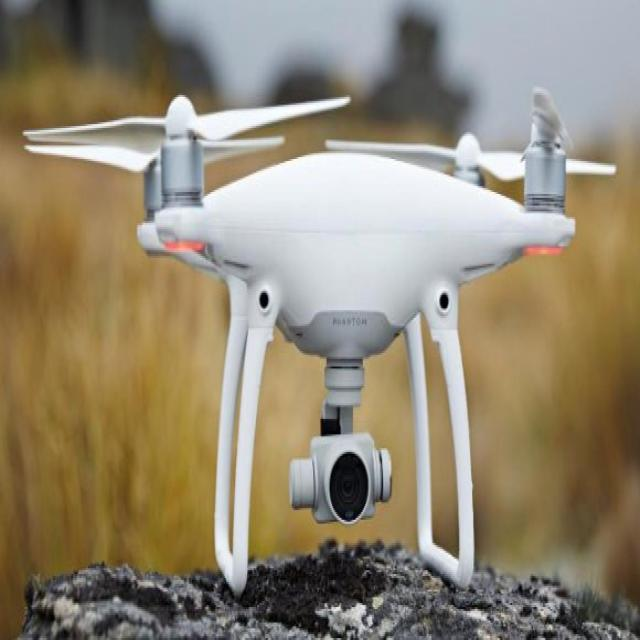drone: (35, 74, 629, 402)
